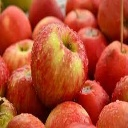apple: (30, 22, 89, 110)
